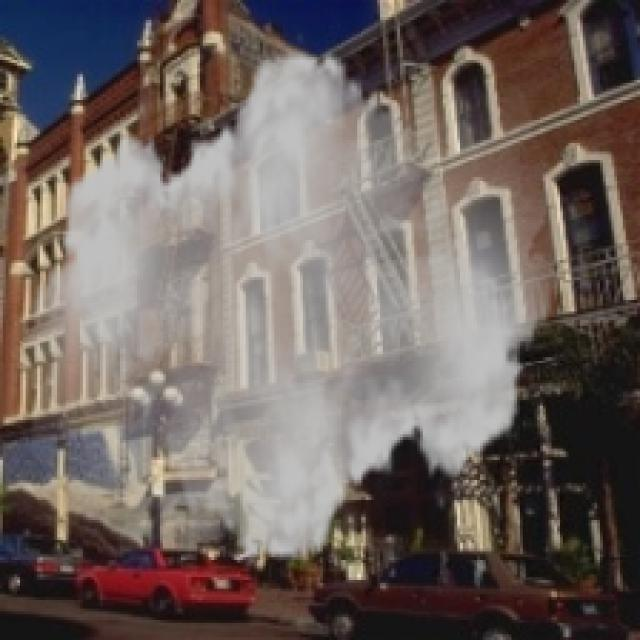smoke: (20, 28, 563, 583)
